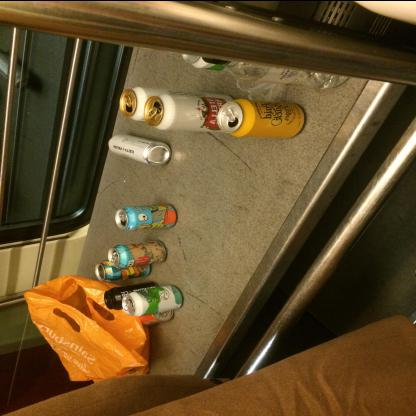metal: (216, 98, 307, 138), (144, 92, 235, 132), (120, 86, 188, 120), (108, 132, 171, 164), (121, 284, 184, 316), (115, 203, 177, 230), (108, 239, 167, 267), (104, 281, 158, 309), (95, 259, 150, 281), (181, 52, 228, 70), (139, 307, 173, 325)
plastik: (24, 274, 151, 381), (200, 51, 350, 89)
